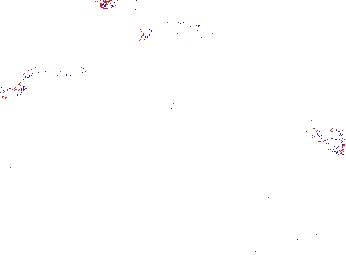glassfish: (222, 106, 324, 167)
red belly glassfish: (1, 83, 29, 101), (98, 1, 131, 12)
redtail glassfish: (158, 78, 226, 120), (133, 19, 203, 47), (11, 61, 90, 85)
